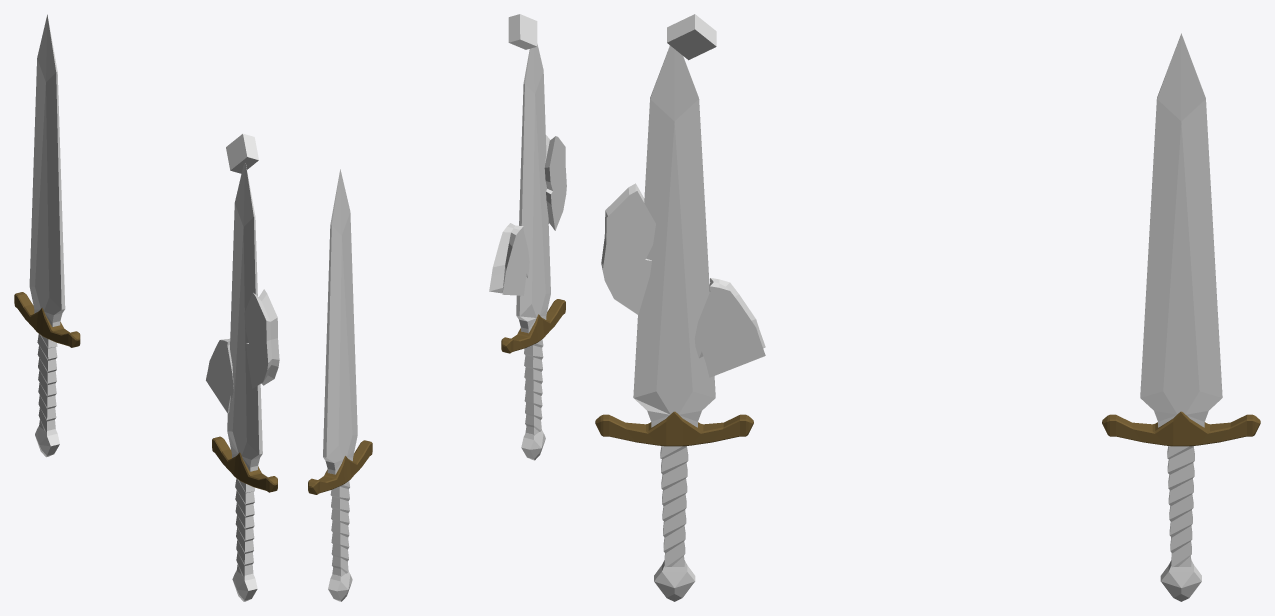
The model's file is Franklin Sword.fbx.
3 views of the same model, side by side, from view 1: azimuth 30°, elevation 25°; view 2: azimuth 150°, elevation 25°; view 3: azimuth 270°, elevation 25° (orthographic). The views are drawn at different scales.
Parts seen in each view (by area): view 1: Sword.001, Sword, Cut-Left, Grip.001, Grip, Cut-Right, Hilt.001, Hilt, Cut-Top; view 2: Sword.001, Sword, Cut-Right, Cut-Left, Grip, Grip.001, Hilt.001, Hilt, Cut-Top; view 3: Sword.001, Sword, Cut-Left, Cut-Right, Hilt, Hilt.001, Grip, Grip.001, Cut-Top.
Boxes of the visible parts, x1,y1,x2,y2 form: Sword.001: (29, 14, 65, 457); Sword: (227, 162, 262, 601); Cut-Left: (244, 289, 279, 388); Grip.001: (37, 334, 57, 431); Grip: (235, 478, 254, 576); Cut-Right: (206, 338, 233, 413); Hilt.001: (14, 292, 80, 347); Hilt: (212, 436, 277, 492); Cut-Top: (226, 133, 258, 173); Sword.001: (323, 169, 357, 601); Sword: (516, 44, 550, 460); Cut-Right: (489, 223, 529, 295); Cut-Left: (544, 135, 566, 230); Grip: (524, 339, 543, 435); Grip.001: (330, 481, 349, 576); Hilt.001: (308, 440, 372, 494); Hilt: (501, 299, 565, 353); Cut-Top: (508, 14, 537, 49); Sword.001: (1140, 33, 1222, 601); Sword: (633, 45, 715, 601); Cut-Left: (601, 183, 655, 314); Cut-Right: (694, 278, 765, 377); Hilt: (595, 411, 753, 446); Hilt.001: (1102, 411, 1260, 446); Grip: (660, 446, 688, 567); Grip.001: (1167, 446, 1194, 567); Cut-Top: (667, 14, 716, 60).
Size of the model in its own units: 29.72 by 485 by 495.
